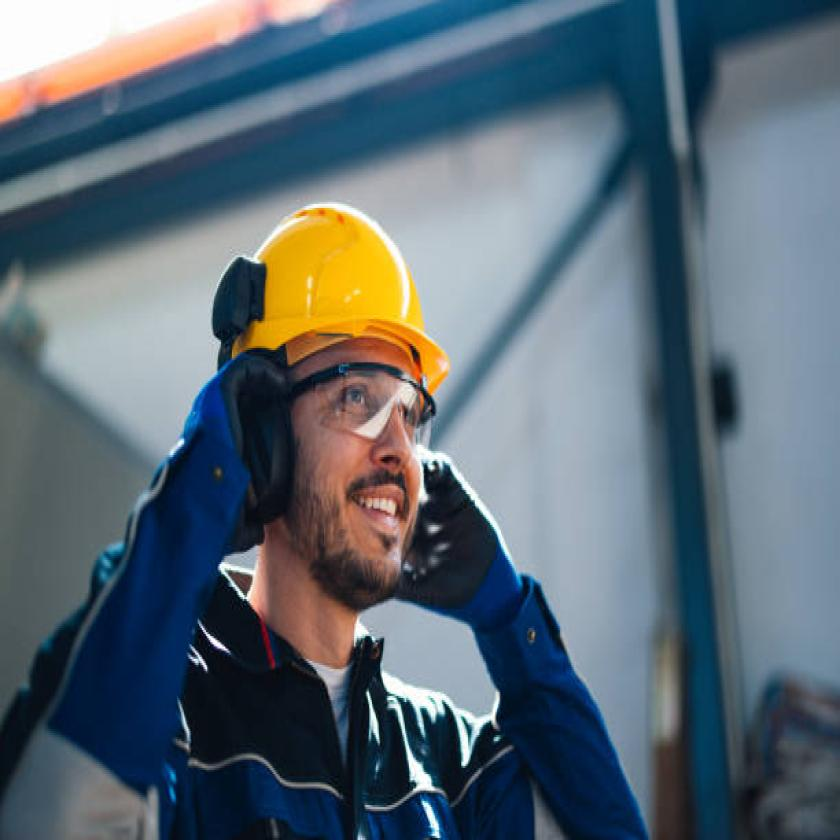Con_casco: (219, 195, 457, 612)
